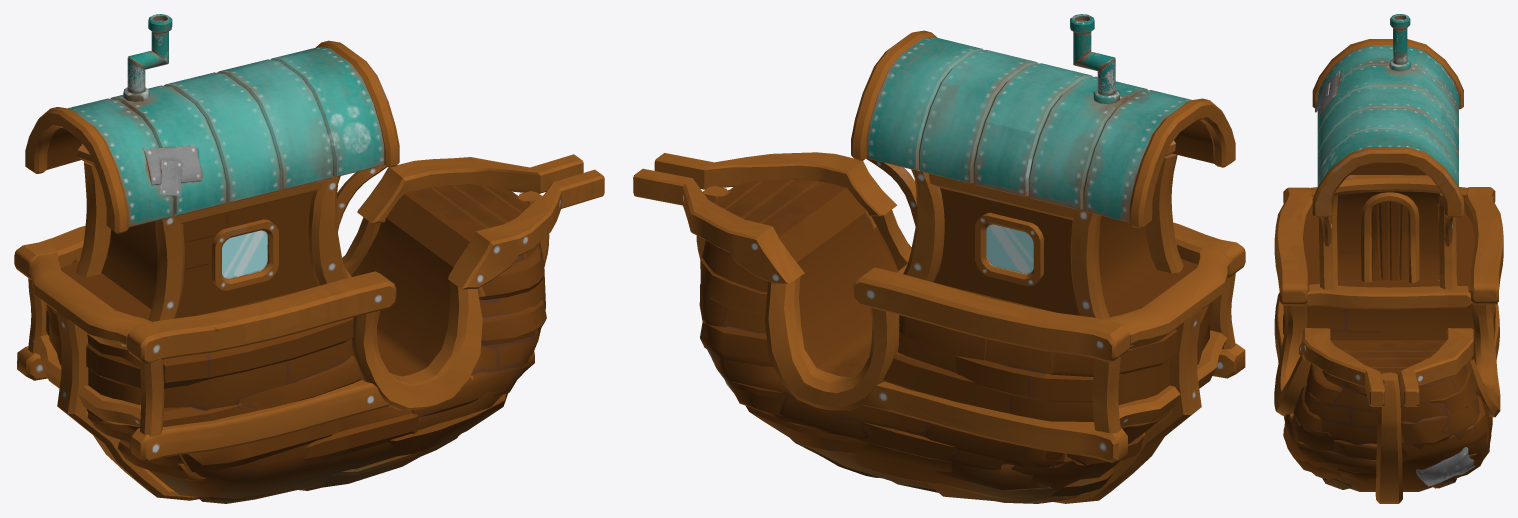
File: cartoon_boat.glb
3 views of the same model, side by side, from view 1: azimuth 30°, elevation 25°; view 2: azimuth 150°, elevation 25°; view 3: azimuth 270°, elevation 25° (orthographic). The views are drawn at different scales.
Parts seen in each view (by area): view 1: polySurface92, polySurface22, polySurface12, polySurface8, polySurface46, polySurface33, polySurface32, polySurface31, pCube7, pCube3, polySurface36, polySurface35 (+31 smaller); view 2: polySurface92, polySurface22, polySurface61, polySurface53, polySurface60, polySurface33, polySurface32, polySurface31, polySurface36, pCube7, pCube3, polySurface35 (+31 smaller); view 3: polySurface92, polySurface22, polySurface42, polySurface116, polySurface61, polySurface12, polySurface33, polySurface32, polySurface7, polySurface36, polySurface77, pCube3 (+25 smaller).
Boxes of the visible parts, left/top/right/bottom form: polySurface92: left=49, top=184, right=545, bottom=498; polySurface22: left=101, top=192, right=318, bottom=318; polySurface12: left=127, top=271, right=396, bottom=363; polySurface8: left=129, top=380, right=389, bottom=462; polySurface46: left=351, top=281, right=482, bottom=410; polySurface33: left=164, top=72, right=280, bottom=202; polySurface32: left=217, top=59, right=333, bottom=189; polySurface31: left=270, top=47, right=384, bottom=176; pCube7: left=357, top=154, right=583, bottom=223; pCube3: left=448, top=169, right=604, bottom=289; polySurface36: left=110, top=85, right=226, bottom=215; polySurface35: left=68, top=98, right=173, bottom=227; polySurface92: left=699, top=179, right=1209, bottom=501; polySurface22: left=934, top=188, right=1156, bottom=315; polySurface61: left=853, top=267, right=1129, bottom=362; polySurface53: left=765, top=277, right=899, bottom=410; polySurface60: left=861, top=381, right=1127, bottom=462; polySurface33: left=973, top=63, right=1092, bottom=197; polySurface32: left=919, top=50, right=1038, bottom=183; polySurface31: left=866, top=37, right=983, bottom=170; polySurface36: left=1028, top=76, right=1147, bottom=210; pCube7: left=633, top=168, right=804, bottom=283; pCube3: left=654, top=152, right=897, bottom=216; polySurface35: left=1083, top=90, right=1191, bottom=222; polySurface92: left=1286, top=208, right=1492, bottom=491; polySurface22: left=1337, top=163, right=1439, bottom=279; polySurface42: left=1312, top=147, right=1463, bottom=217; polySurface116: left=1306, top=284, right=1471, bottom=309; polySurface61: left=1464, top=187, right=1503, bottom=304; polySurface12: left=1274, top=187, right=1313, bottom=305; polySurface33: left=1317, top=86, right=1458, bottom=155; polySurface32: left=1317, top=108, right=1458, bottom=176; polySurface7: left=1375, top=373, right=1402, bottom=503; polySurface36: left=1317, top=65, right=1458, bottom=133; polySurface77: left=1371, top=201, right=1408, bottom=280; pCube3: left=1298, top=328, right=1384, bottom=406.
Size of the model in its own units: 6.04 by 5.31 by 2.77.
Materials: 1 (1 with a texture image).
